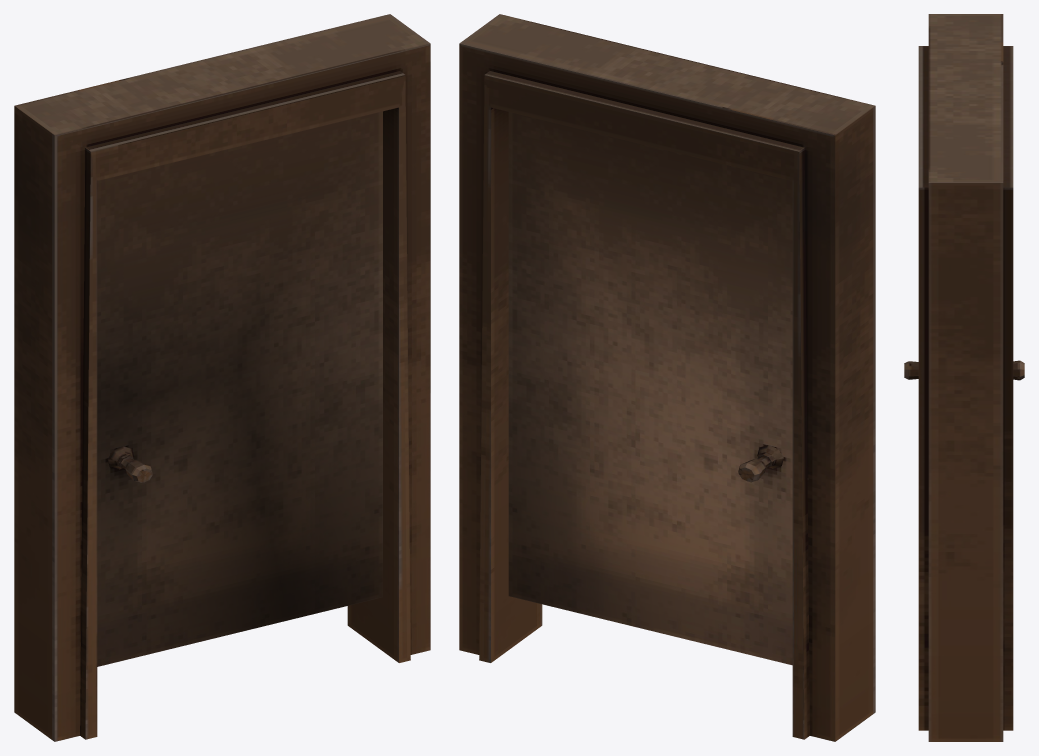
File: Door_2.fbx
The picture shows the model from 3 angles, left to right: view 1: azimuth 30°, elevation 25°; view 2: azimuth 150°, elevation 25°; view 3: azimuth 270°, elevation 25°; orthographic projection. The views are drawn at different scales.
Visible parts, largest first — view 1: Door, Doorframe; view 2: Door, Doorframe; view 3: Doorframe, Door.
Boxes of the visible parts, x1,y1,x2,y2 form: Door: (97,111,382,666); Doorframe: (14,14,430,741); Door: (508,112,792,665); Doorframe: (459,14,875,741); Doorframe: (918,14,1013,741); Door: (904,360,1024,380).
Bounding box in the file's own units: 346 × 534 × 104.
1 material, 1 textured.
